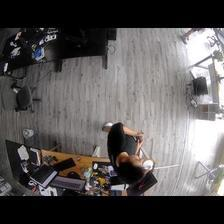normal: (101, 121, 144, 183)
